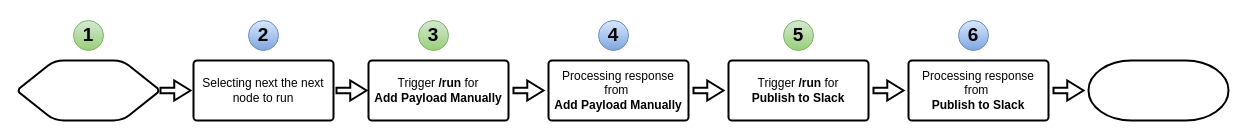
This 1246x139 diagram has some shape labels left out. The centre of each missing label's shape, as x and y in pixels:
"Container execution is finished" goes at (1158,90).
"Container execution is started" goes at (88,90).
